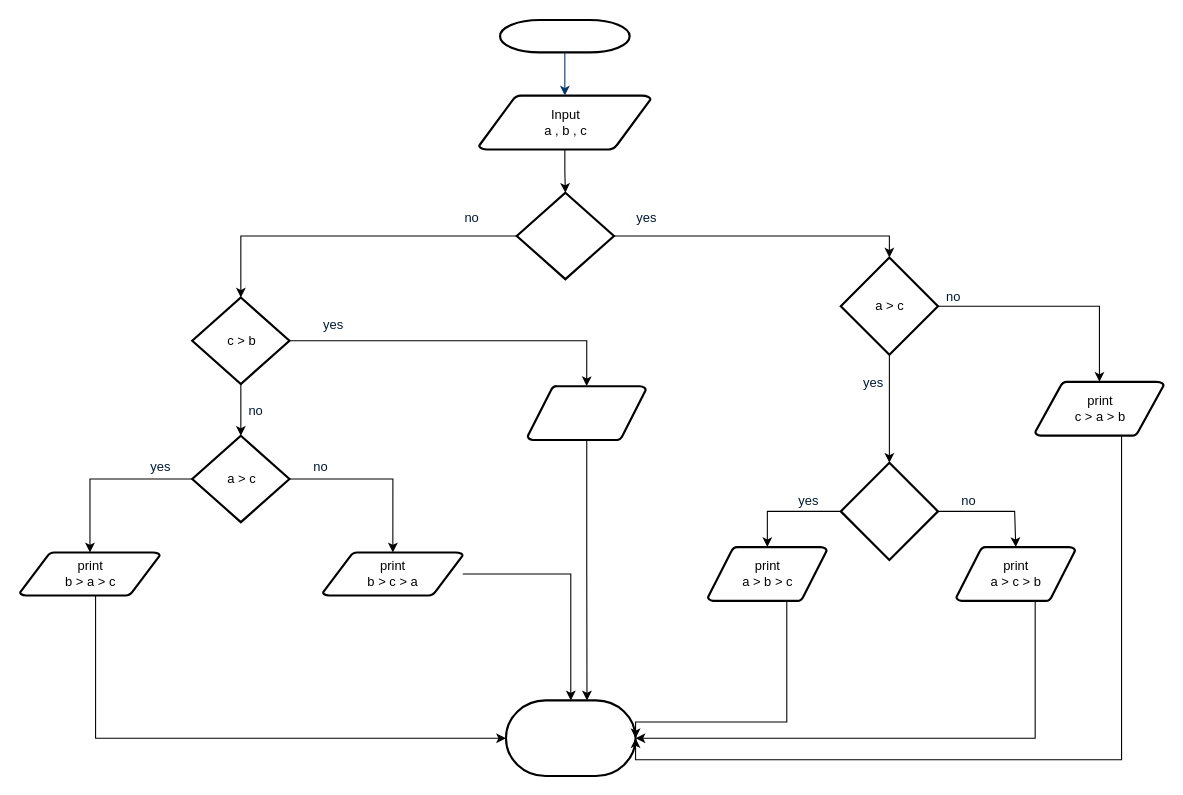
Some shapes in this 1183 by 795 pixel diagram are drawn without their labels. Each missing label, with the centre of its shape:
a > b: the point at 565,235
b > c: the point at 889,511
end: the point at 570,738
print c > b > a: the point at 586,412
start: the point at 564,35
